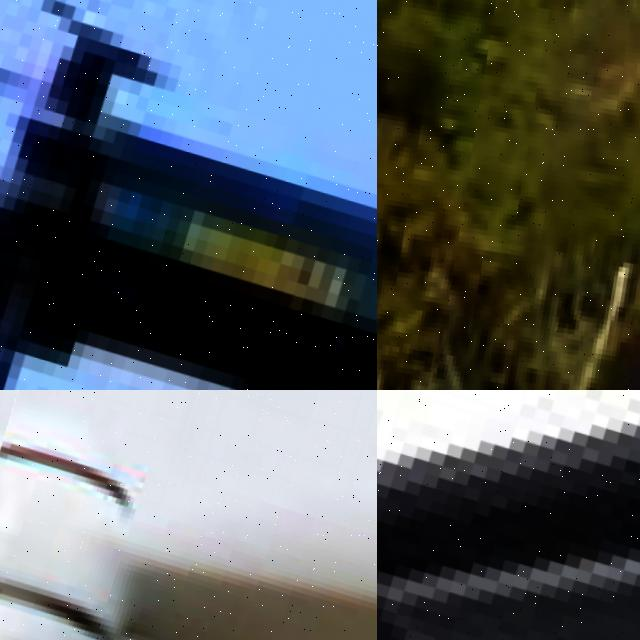drone: (0, 0, 377, 390), (0, 390, 377, 640), (377, 390, 640, 640)
